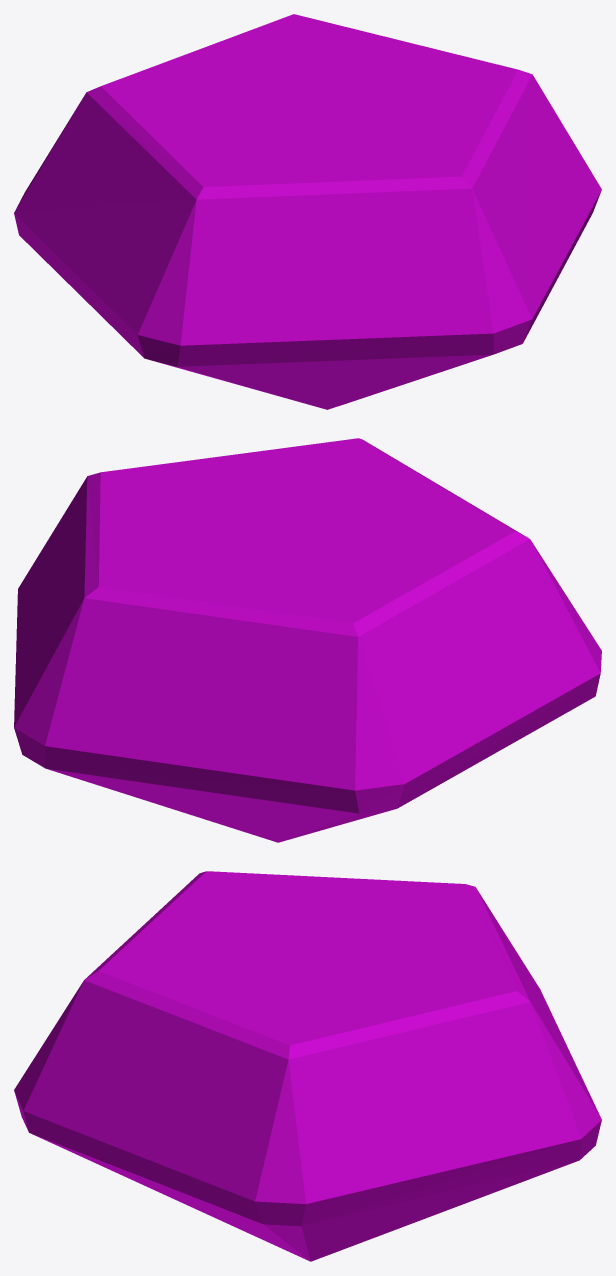
Rendered from Purple Gem.obj.
The picture shows the model from 3 angles, top to bottom: view 1: azimuth 30°, elevation 25°; view 2: azimuth 150°, elevation 25°; view 3: azimuth 270°, elevation 25°; orthographic projection. The views are drawn at different scales.
Visible parts, largest first — view 1: PurpleGem; view 2: PurpleGem; view 3: PurpleGem.
Part boxes in pixels (left/top/right/bottom): PurpleGem: left=14, top=14, right=601, bottom=409; PurpleGem: left=14, top=438, right=601, bottom=842; PurpleGem: left=14, top=871, right=601, bottom=1261.
Bounding box in the file's own units: 5.37 × 3.11 × 5.43.
1 material, 1 textured.
